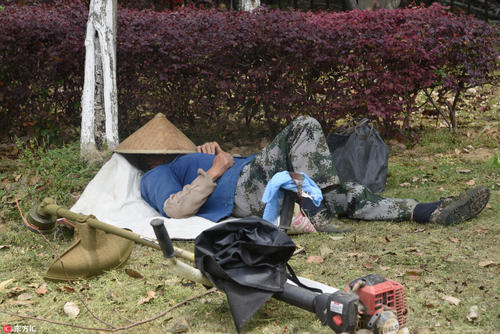fall: (121, 107, 495, 232)
